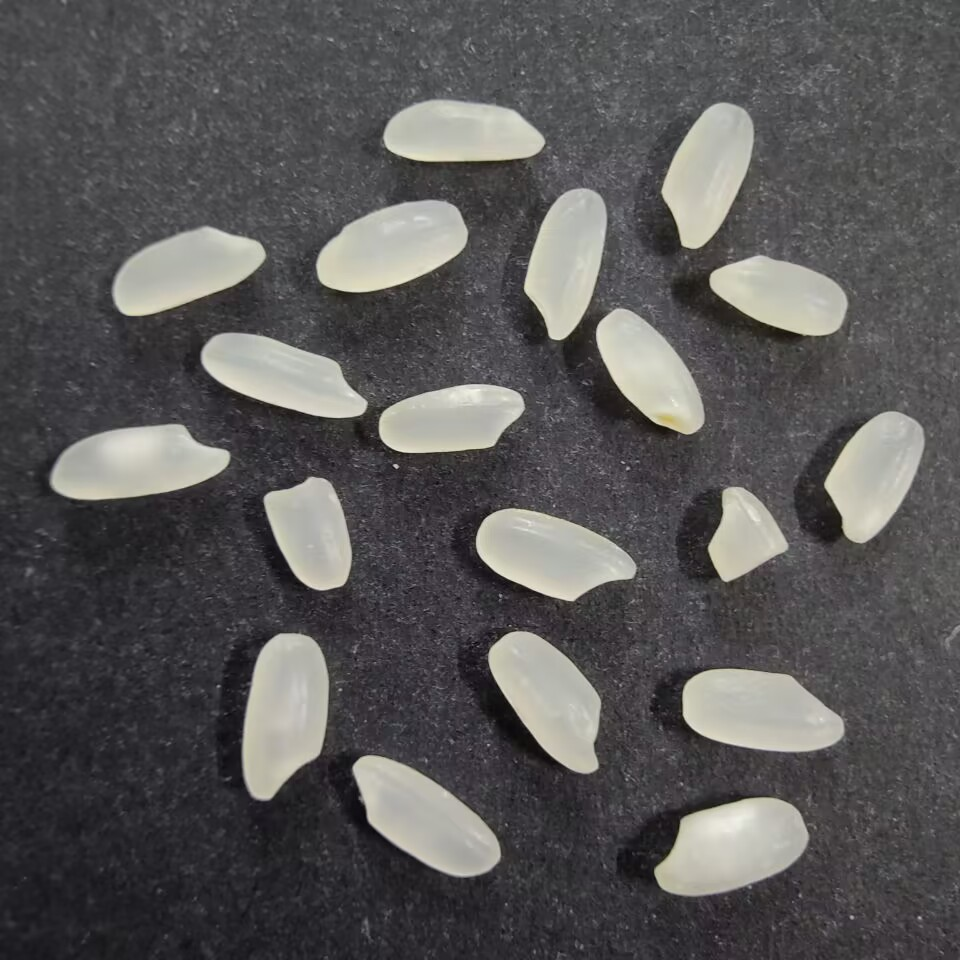broken: (258, 473, 355, 595), (703, 484, 788, 586)
rice: (347, 753, 501, 879), (483, 626, 605, 777), (471, 504, 638, 606), (652, 794, 814, 899), (45, 421, 234, 507), (237, 629, 330, 803), (313, 195, 471, 297), (197, 330, 372, 422), (675, 663, 847, 754), (820, 407, 929, 549), (661, 97, 759, 253), (110, 222, 268, 318), (595, 306, 706, 438), (523, 185, 608, 340), (379, 98, 548, 169), (708, 254, 850, 338), (378, 382, 527, 458)
